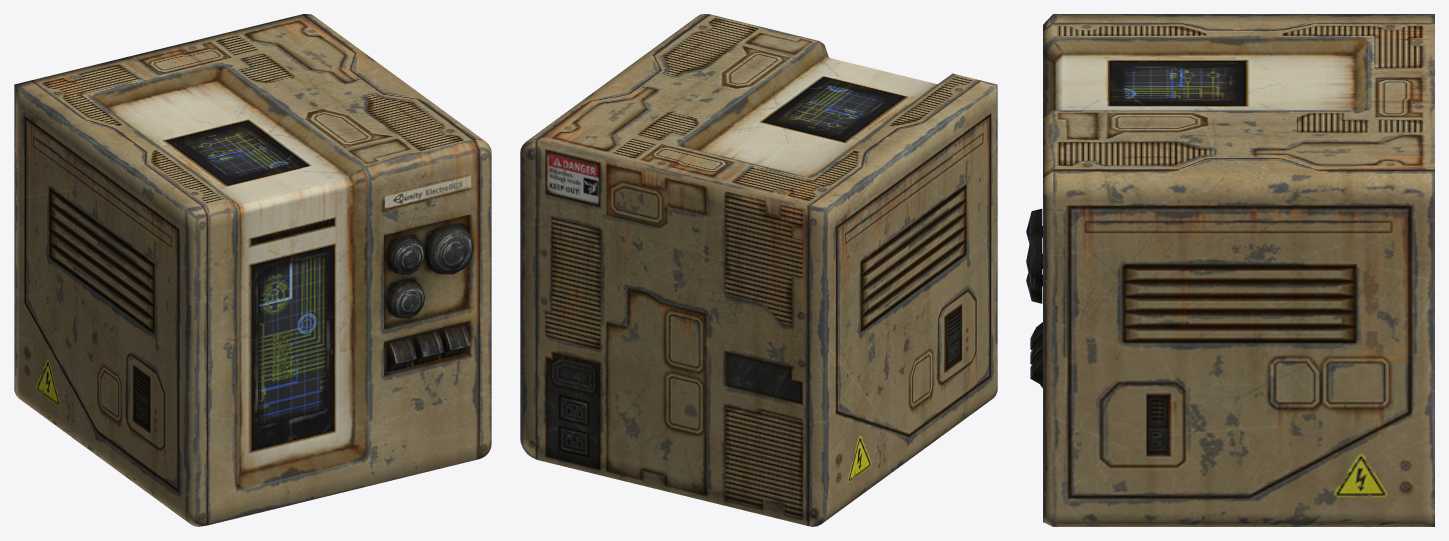
File: prop_powerCube.fbx
The picture shows the model from 3 angles, left to right: view 1: azimuth 30°, elevation 25°; view 2: azimuth 150°, elevation 25°; view 3: azimuth 270°, elevation 25°; orthographic projection. The views are drawn at different scales.
Visible parts, largest first — view 1: prop_powerCube_001; view 2: prop_powerCube_001; view 3: prop_powerCube_001.
Part boxes in pixels (x1=…): prop_powerCube_001: x1=14, y1=14, x2=491, y2=526; prop_powerCube_001: x1=520, y1=14, x2=997, y2=526; prop_powerCube_001: x1=1026, y1=14, x2=1434, y2=526.
Size of the model in its own units: 100 by 100 by 104.
